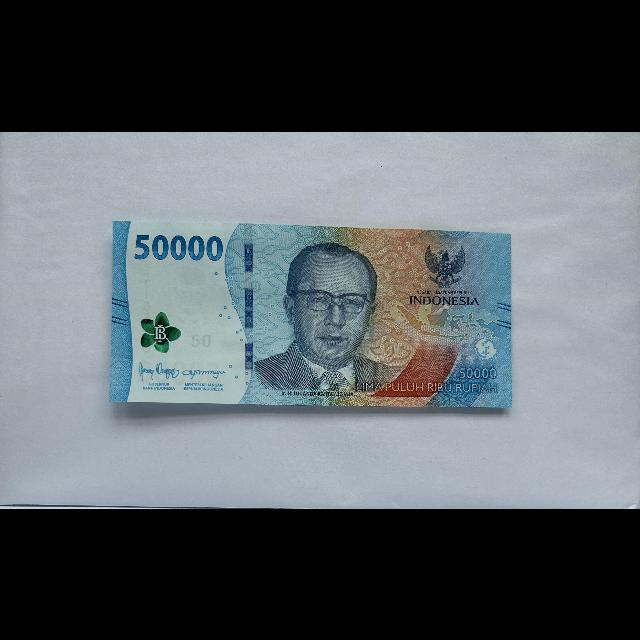Asli-50k: (104, 217, 520, 417)
Tinta-Asli-50k: (140, 311, 182, 354)
